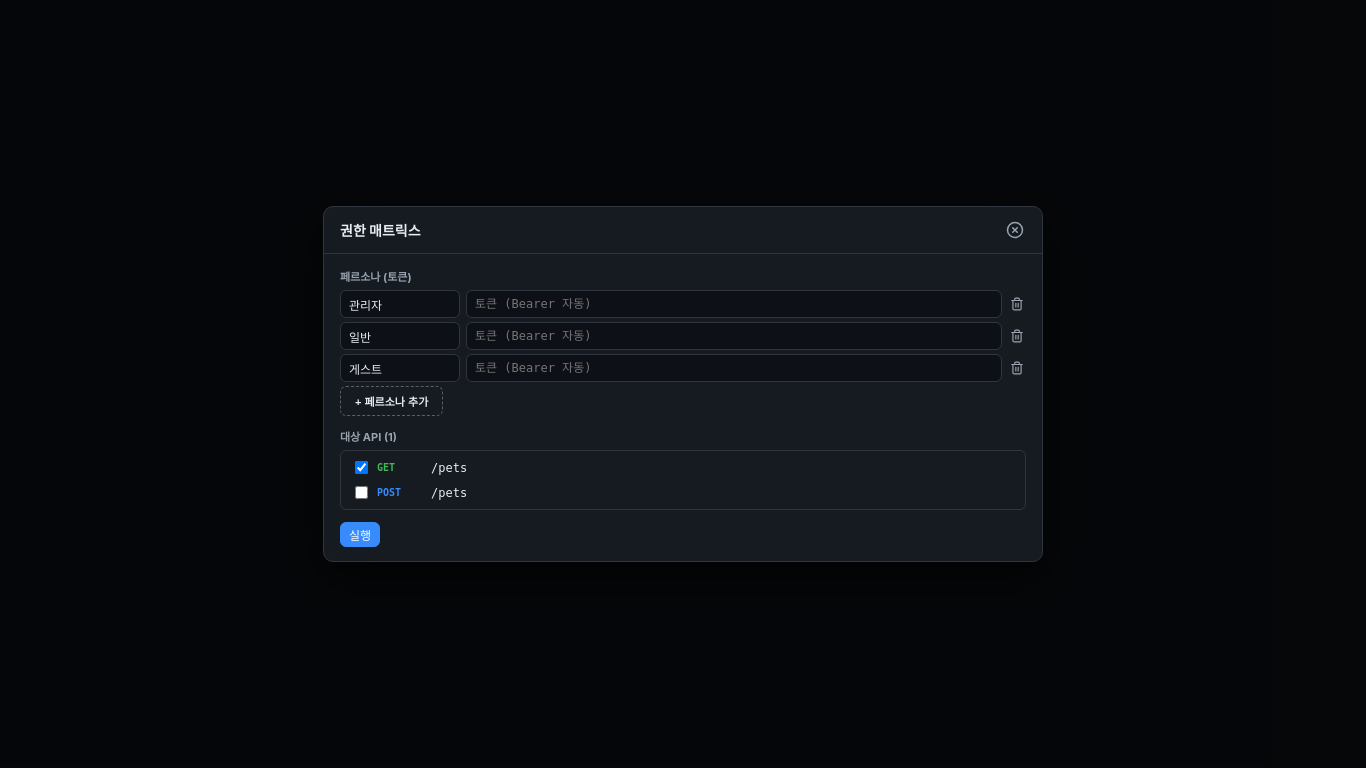
Test: PermissionMatrixModal 설정 › 페르소나를 추가할 수 있다
Click the button "+ 페르소나 추가" at (392, 401), box [340,386,443,416]
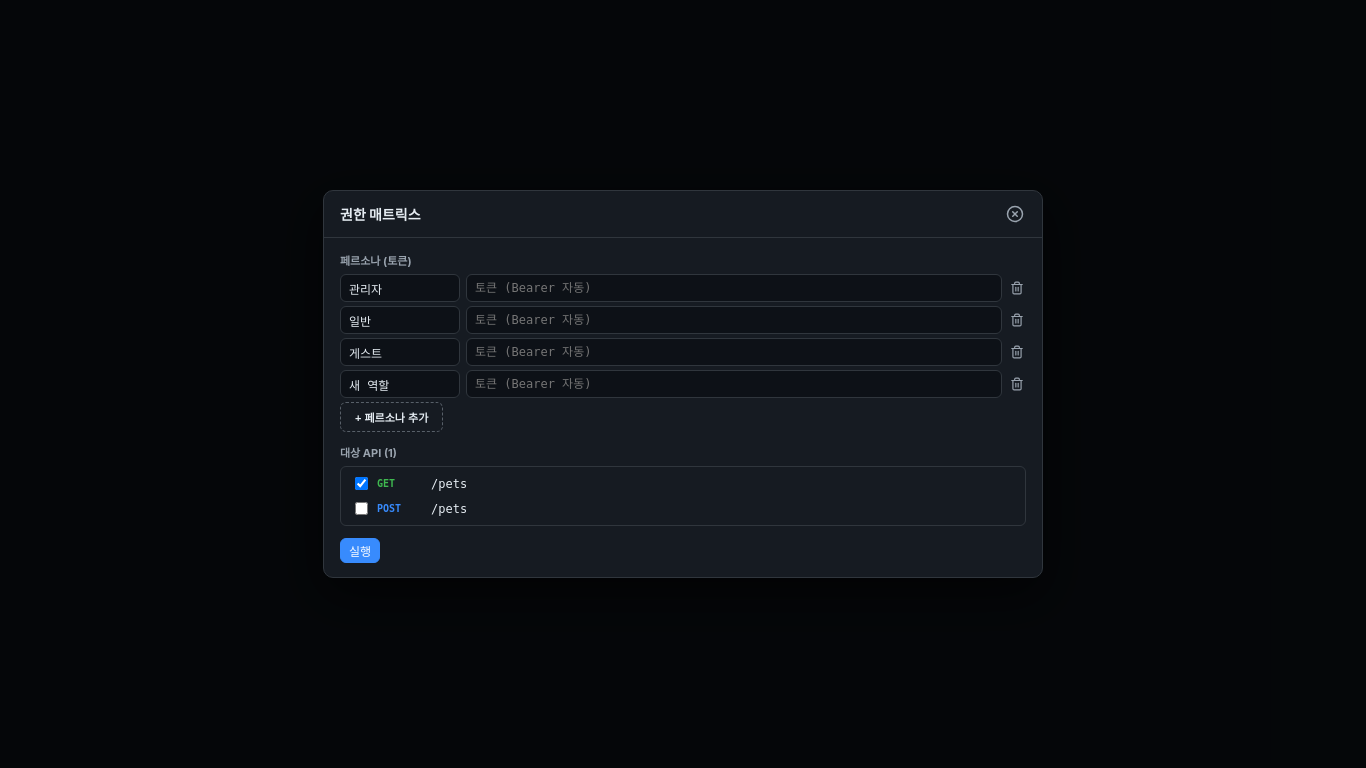
Expected: the number of password fields with placeholder "토큰 (Bearer 자동)" is 4, [466,274,1002,302]; [466,306,1002,334]; [466,338,1002,366]; [466,370,1002,398]
